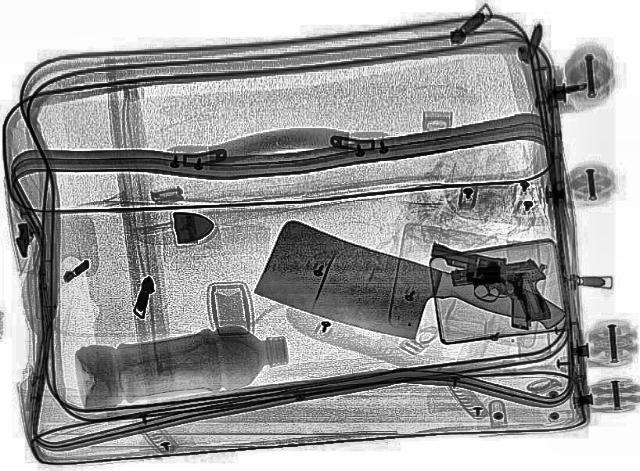Gun: (413, 222, 582, 338), (444, 256, 556, 328)
Knife: (232, 216, 582, 381)
